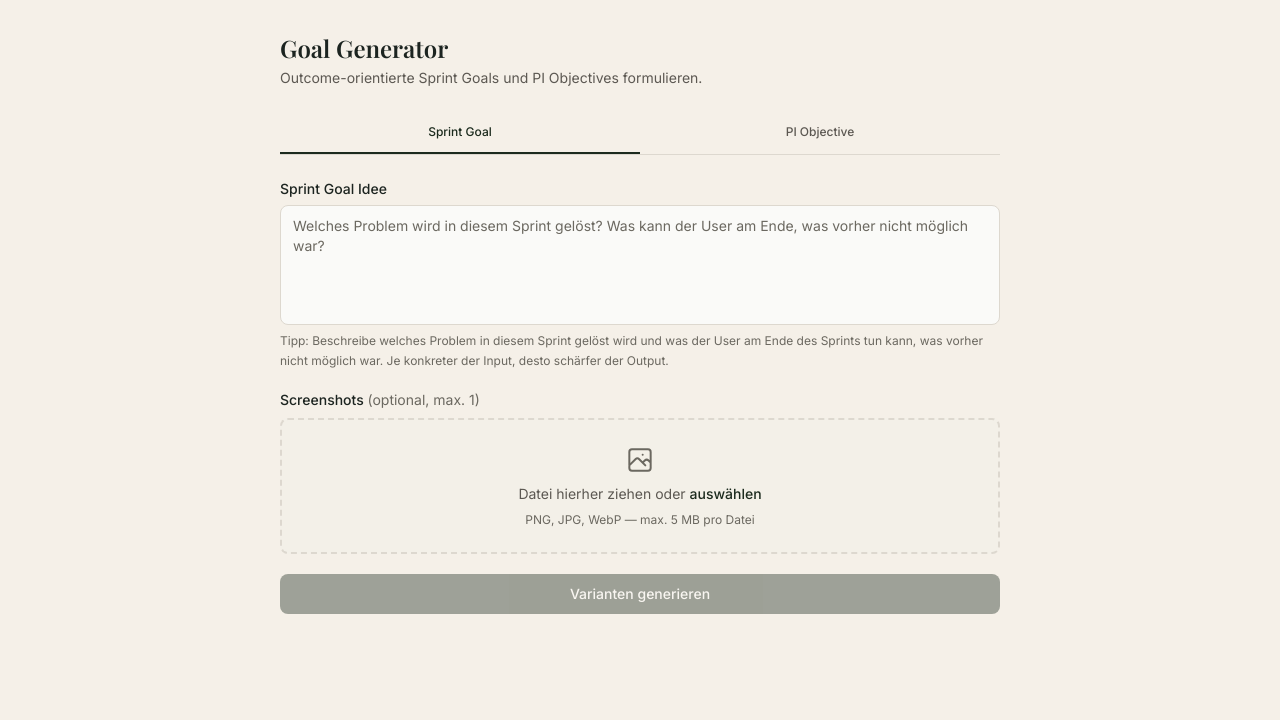
GoalGeneratorPage — Submit Happy Path › zeigt Output-Screen nach erfolgreichem Submit
Type "Bessere Search-UX" into the text box labelled "Sprint Goal Idee" at (640, 265), box x1=280 y1=205 x2=1000 y2=325
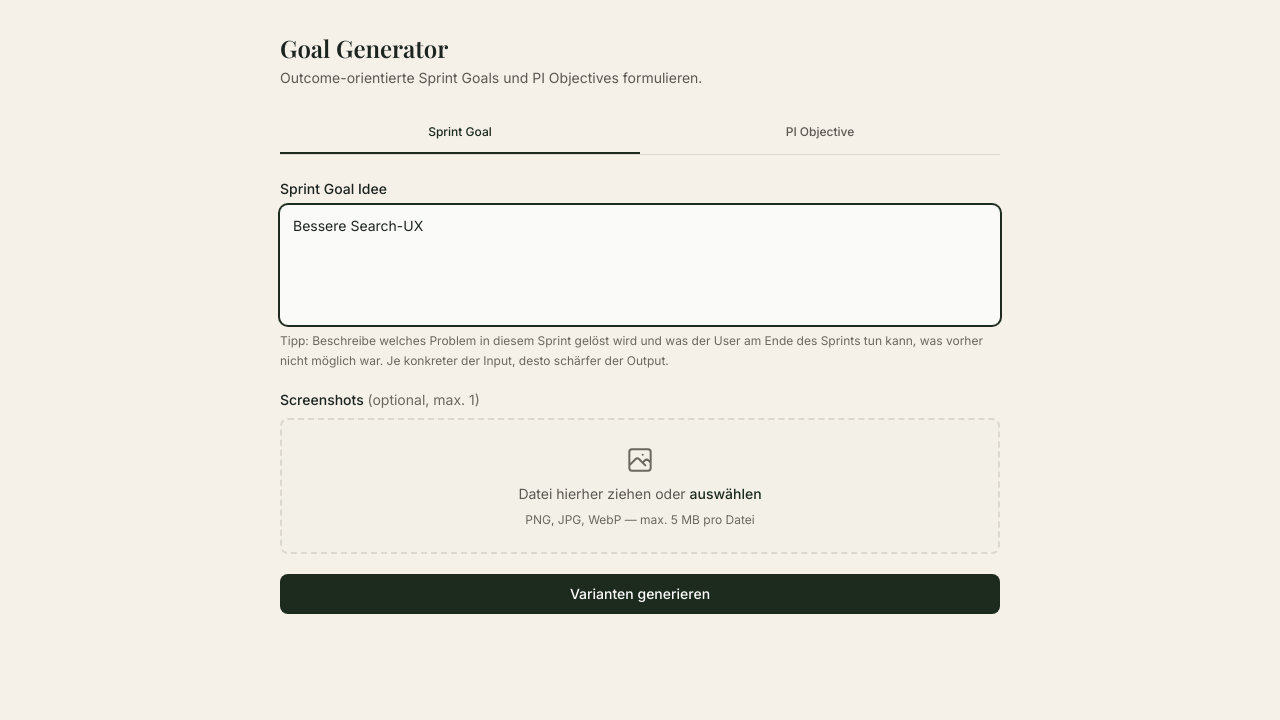
Click the button "Varianten generieren" at (640, 594), box x1=280 y1=574 x2=1000 y2=614
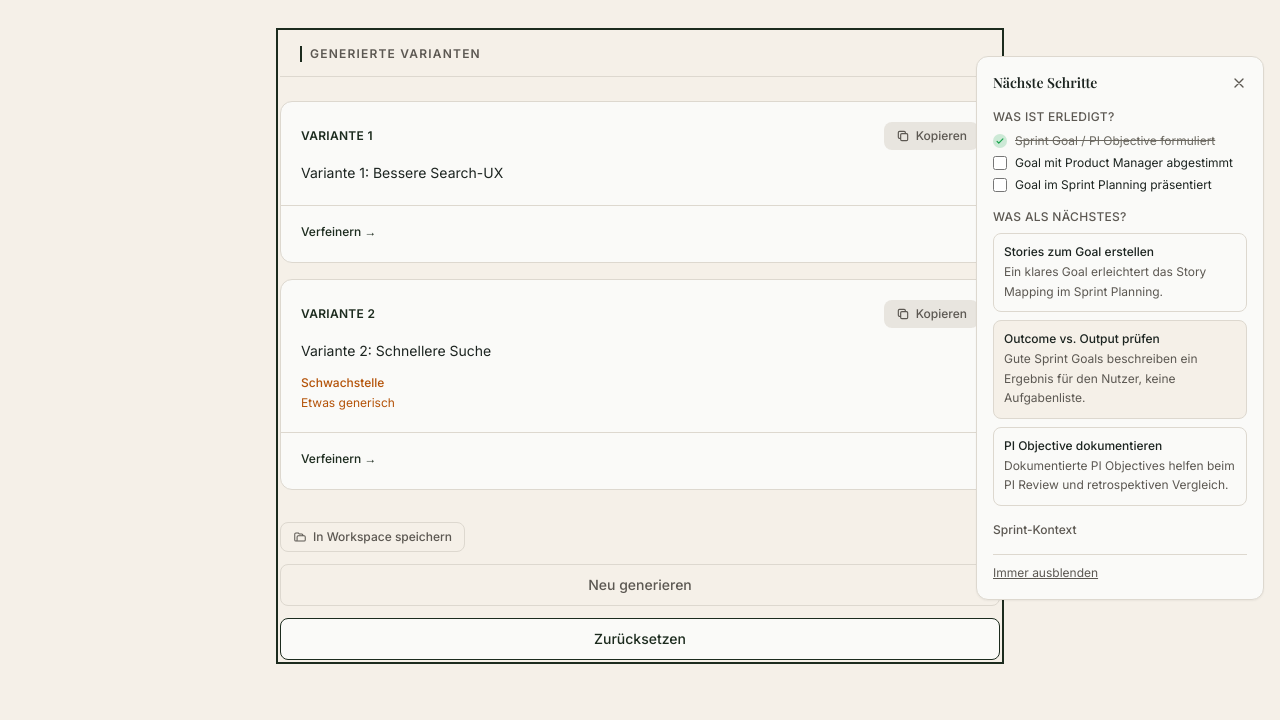
Now the element "Generierte Varianten" is shown, box x1=256 y1=0 x2=1024 y2=692
